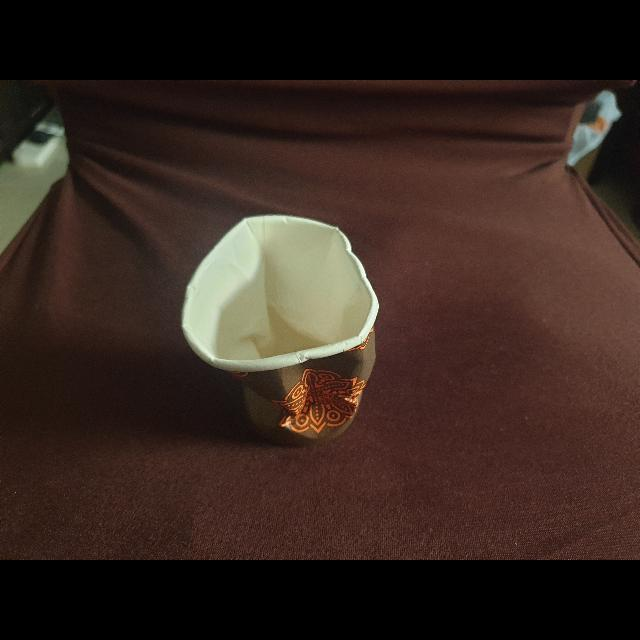trash: (173, 204, 383, 446)
